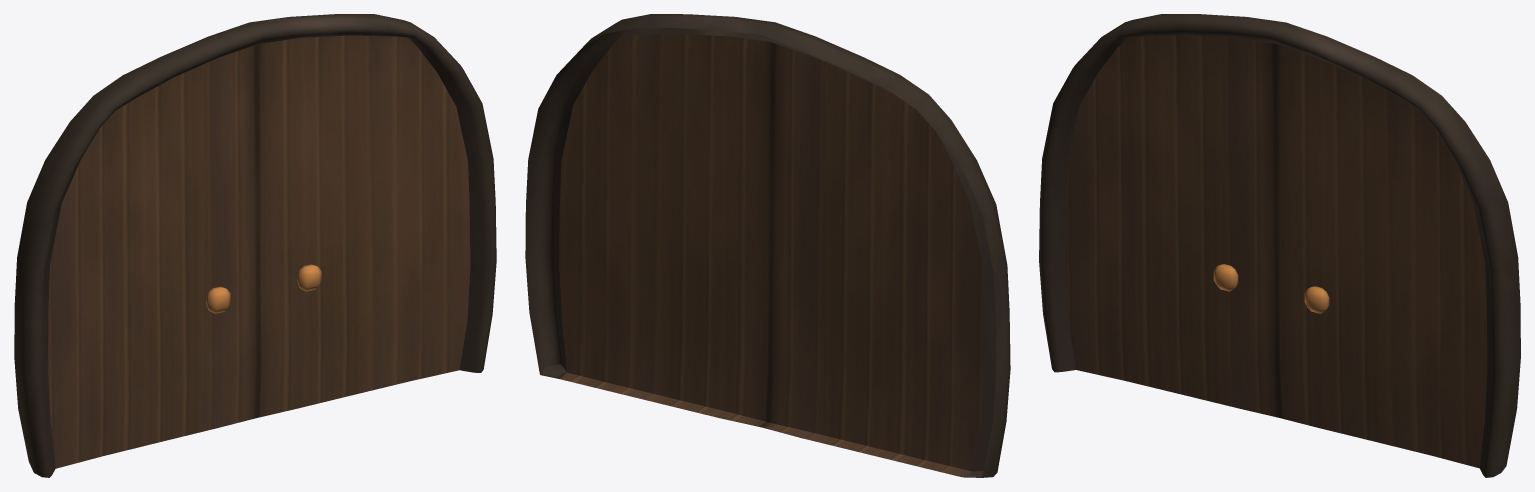
File: Door2.fbx
The picture shows the model from 3 angles, left to right: view 1: azimuth 30°, elevation 25°; view 2: azimuth 150°, elevation 25°; view 3: azimuth 330°, elevation 25°; orthographic projection.
Parts seen in each view (by area): view 1: Door2, DoorKnob.002, DoorKnob.001; view 2: Door2; view 3: Door2, DoorKnob.001, DoorKnob.002.
Boxes of the visible parts, bbox=[...] form: Door2: bbox=[14, 14, 496, 477]; DoorKnob.002: bbox=[297, 264, 321, 291]; DoorKnob.001: bbox=[206, 286, 230, 313]; Door2: bbox=[525, 14, 1010, 477]; Door2: bbox=[1039, 14, 1520, 477]; DoorKnob.001: bbox=[1213, 264, 1238, 291]; DoorKnob.002: bbox=[1304, 286, 1329, 313].
Bounding box in the file's own units: 3.11 × 2.49 × 0.2163.
